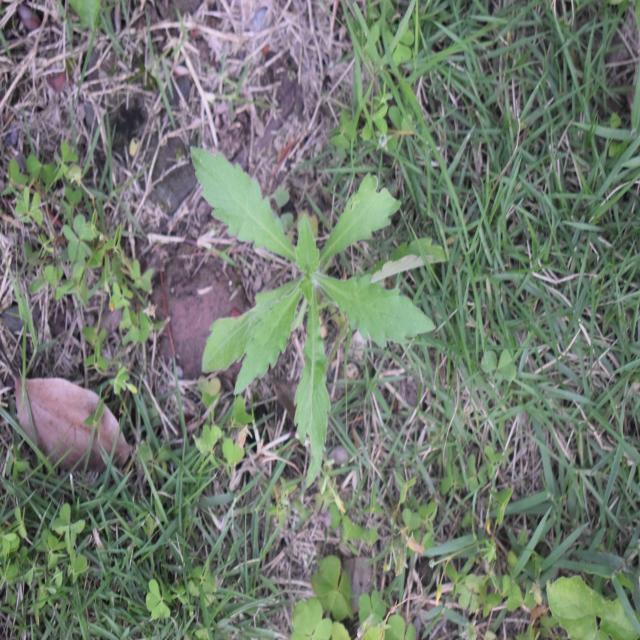horseweed: (193, 142, 432, 460)
